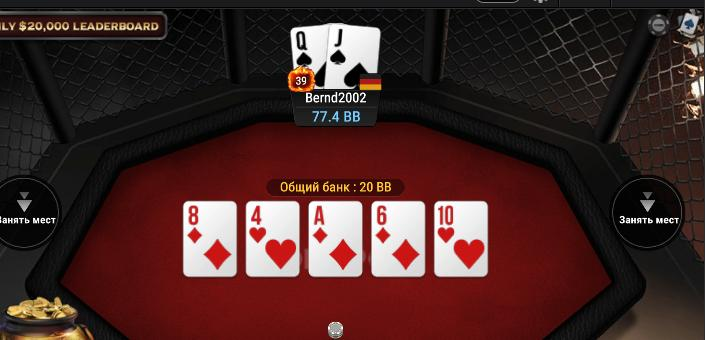10h: (435, 202, 488, 275)
4h: (246, 200, 299, 276)
6d: (371, 202, 424, 277)
8d: (183, 201, 236, 276)
Ad: (310, 202, 361, 275)
Js: (328, 23, 381, 88)
Qs: (288, 27, 327, 88)
